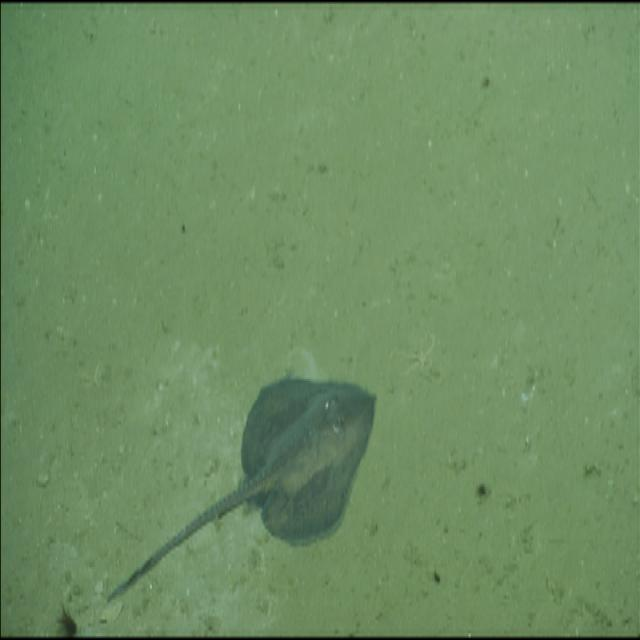Brittle Star: (403, 322, 442, 396)
Not Brittle Star: (101, 344, 402, 612)
